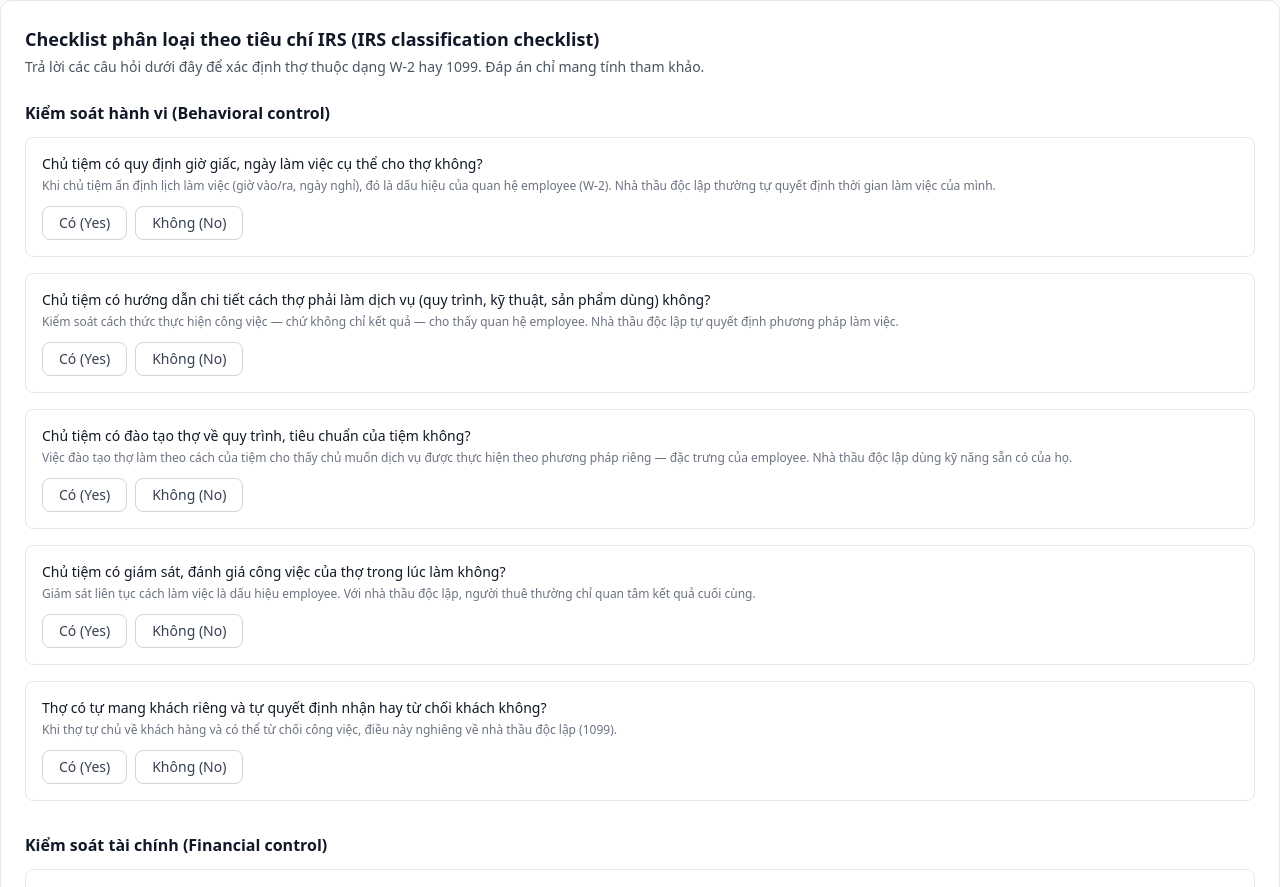
Scenario: ClassificationChecklist › recommends a classification consistent with scoreClassification
# Answer a W-2-indicator question in the W-2 direction (Có/Yes).
Click the 1st radio button labelled "Có (Yes)" at (85, 223), box x1=42 y1=206 x2=127 y2=240
(page scrolled)
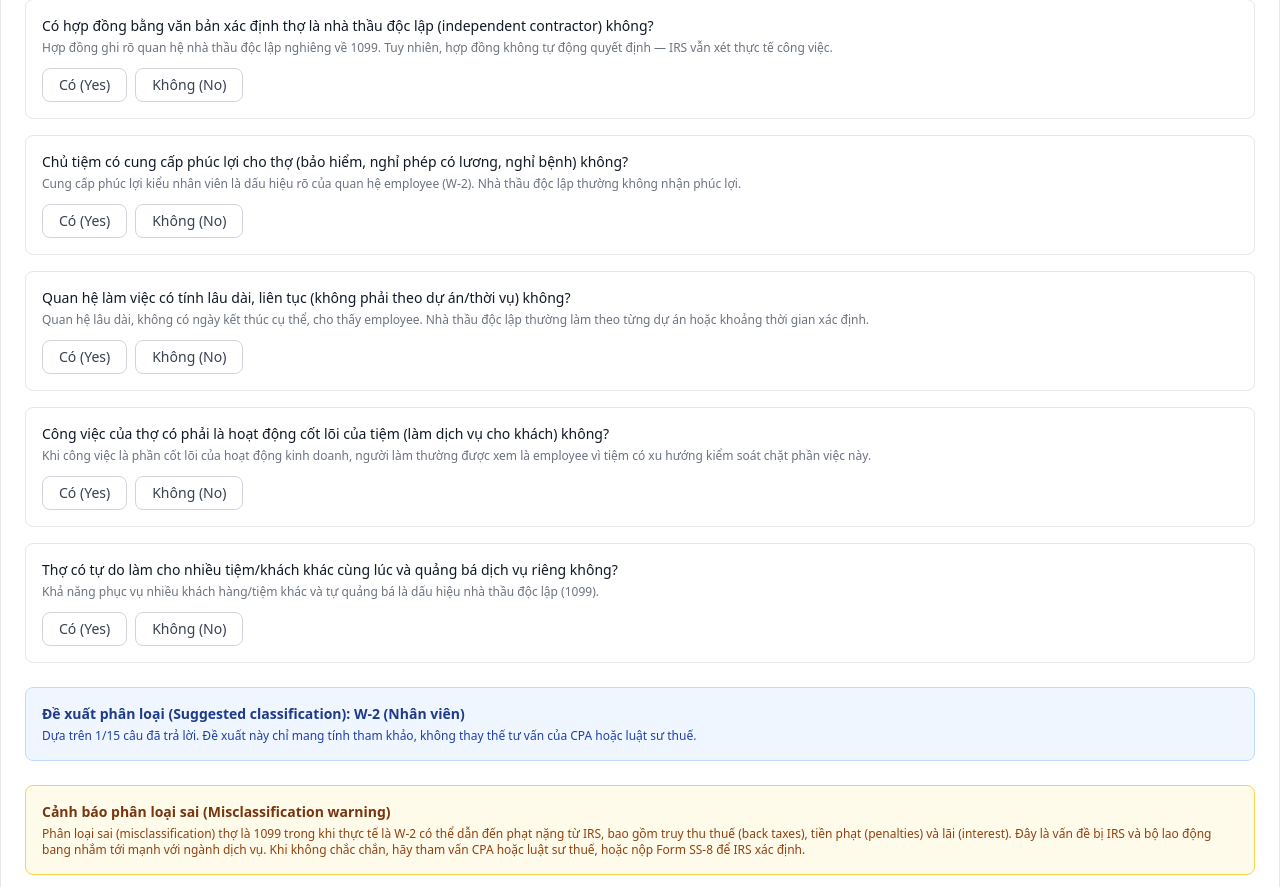
Now the 1st message shows "Đề xuất phân loại", box x1=42 y1=704 x2=350 y2=723
Now the 1st message shows "W-2 (Nhân viên)", box x1=354 y1=704 x2=465 y2=723
